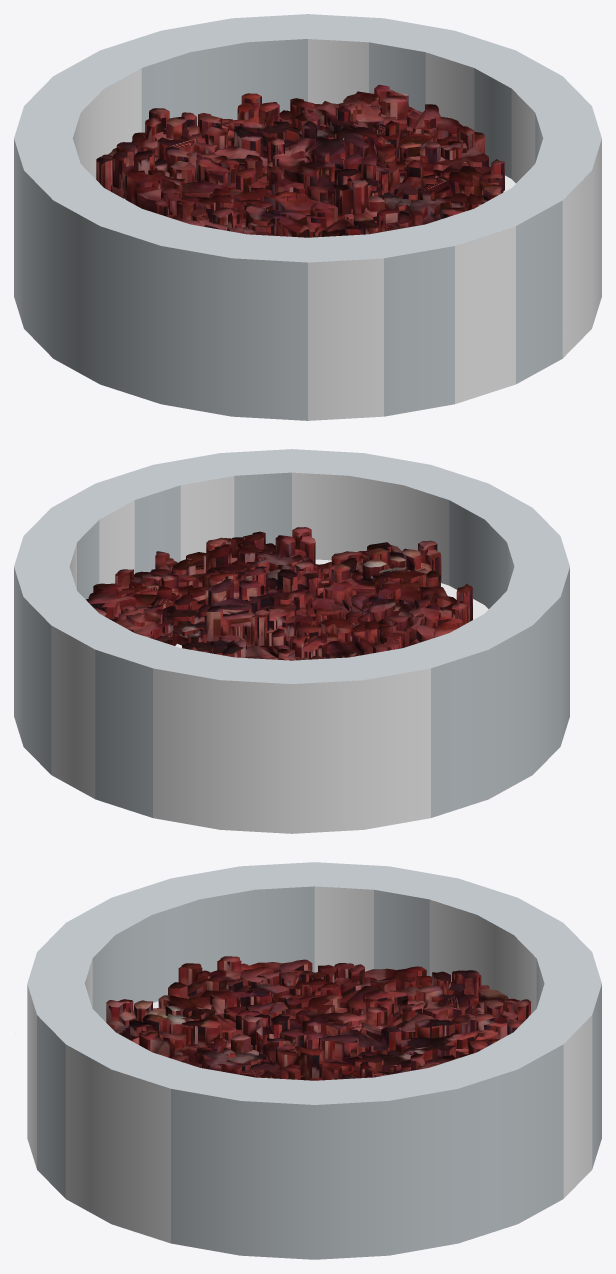
File: cuenco-comida1.glb
3 views of the same model, one above another, from view 1: azimuth 30°, elevation 25°; view 2: azimuth 150°, elevation 25°; view 3: azimuth 270°, elevation 25° (orthographic). The views are drawn at different scales.
Parts seen in each view (by area): view 1: SketchUp.001, SketchUp, SketchUp.011; view 2: SketchUp.001, SketchUp.011, SketchUp; view 3: SketchUp.001, SketchUp, SketchUp.011.
Boxes of the visible parts, <box> form: SketchUp.001: <box>14,14,601,420</box>; SketchUp: <box>96,84,504,237</box>; SketchUp.011: <box>72,39,601,420</box>; SketchUp.001: <box>14,449,569,817</box>; SketchUp.011: <box>51,472,488,833</box>; SketchUp: <box>86,527,472,660</box>; SketchUp.001: <box>27,862,601,1259</box>; SketchUp: <box>106,956,530,1080</box>; SketchUp.011: <box>27,886,592,1243</box>.
Bounding box in the file's own units: 0.2739 × 0.0743 × 0.2558.
Materials: 5 (1 with a texture image).
